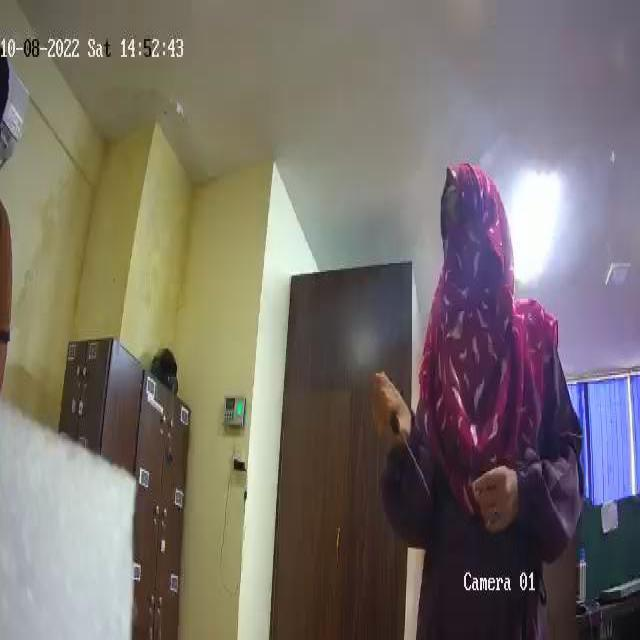Knife: (376, 377, 429, 498)
